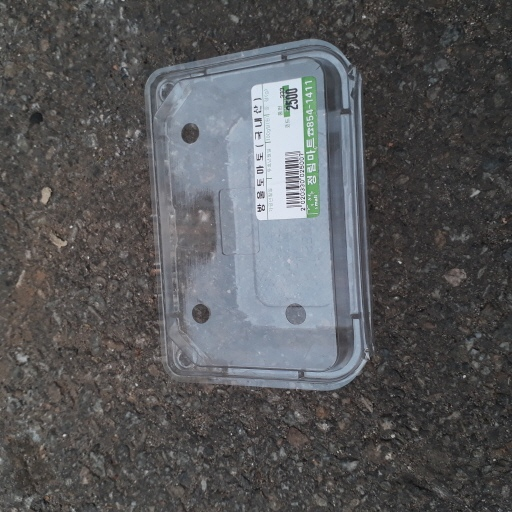Plastic_4: (138, 39, 373, 390)
